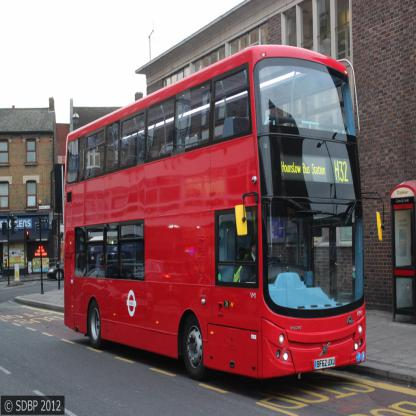Bus: (64, 58, 384, 381)
